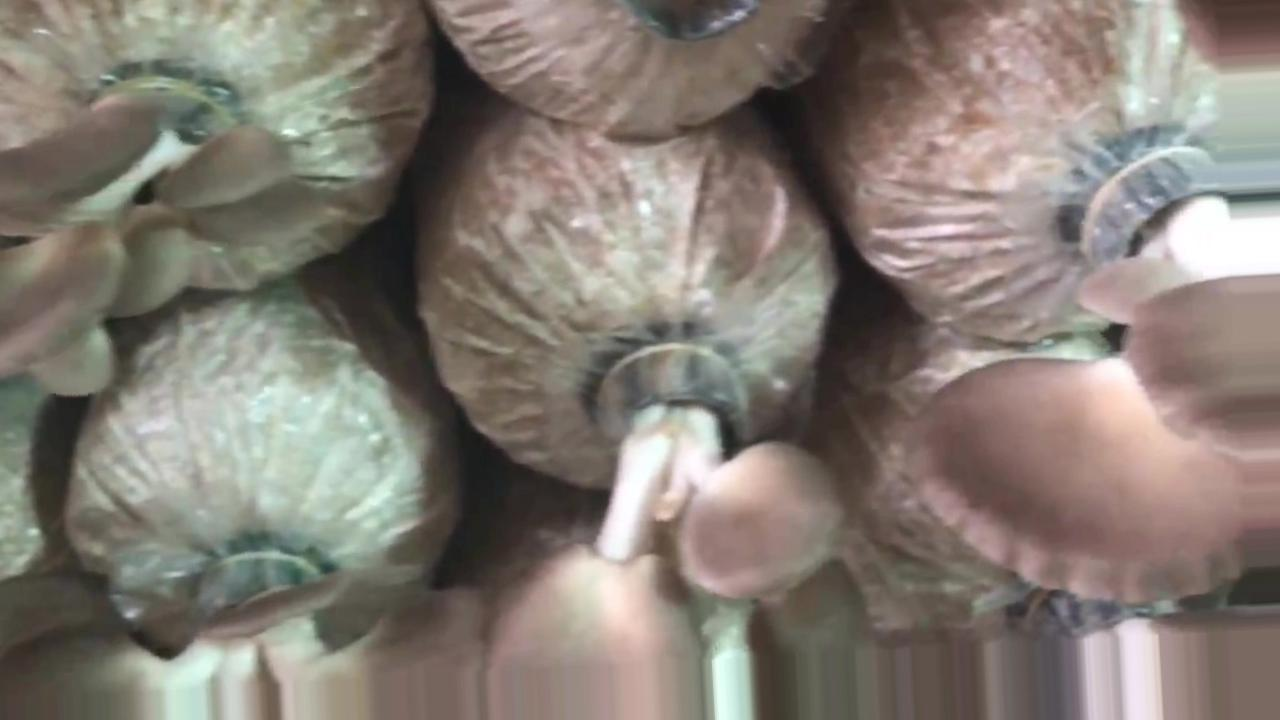nam: (911, 142, 1280, 607), (487, 332, 846, 720), (1, 73, 330, 393), (1, 550, 484, 720)
